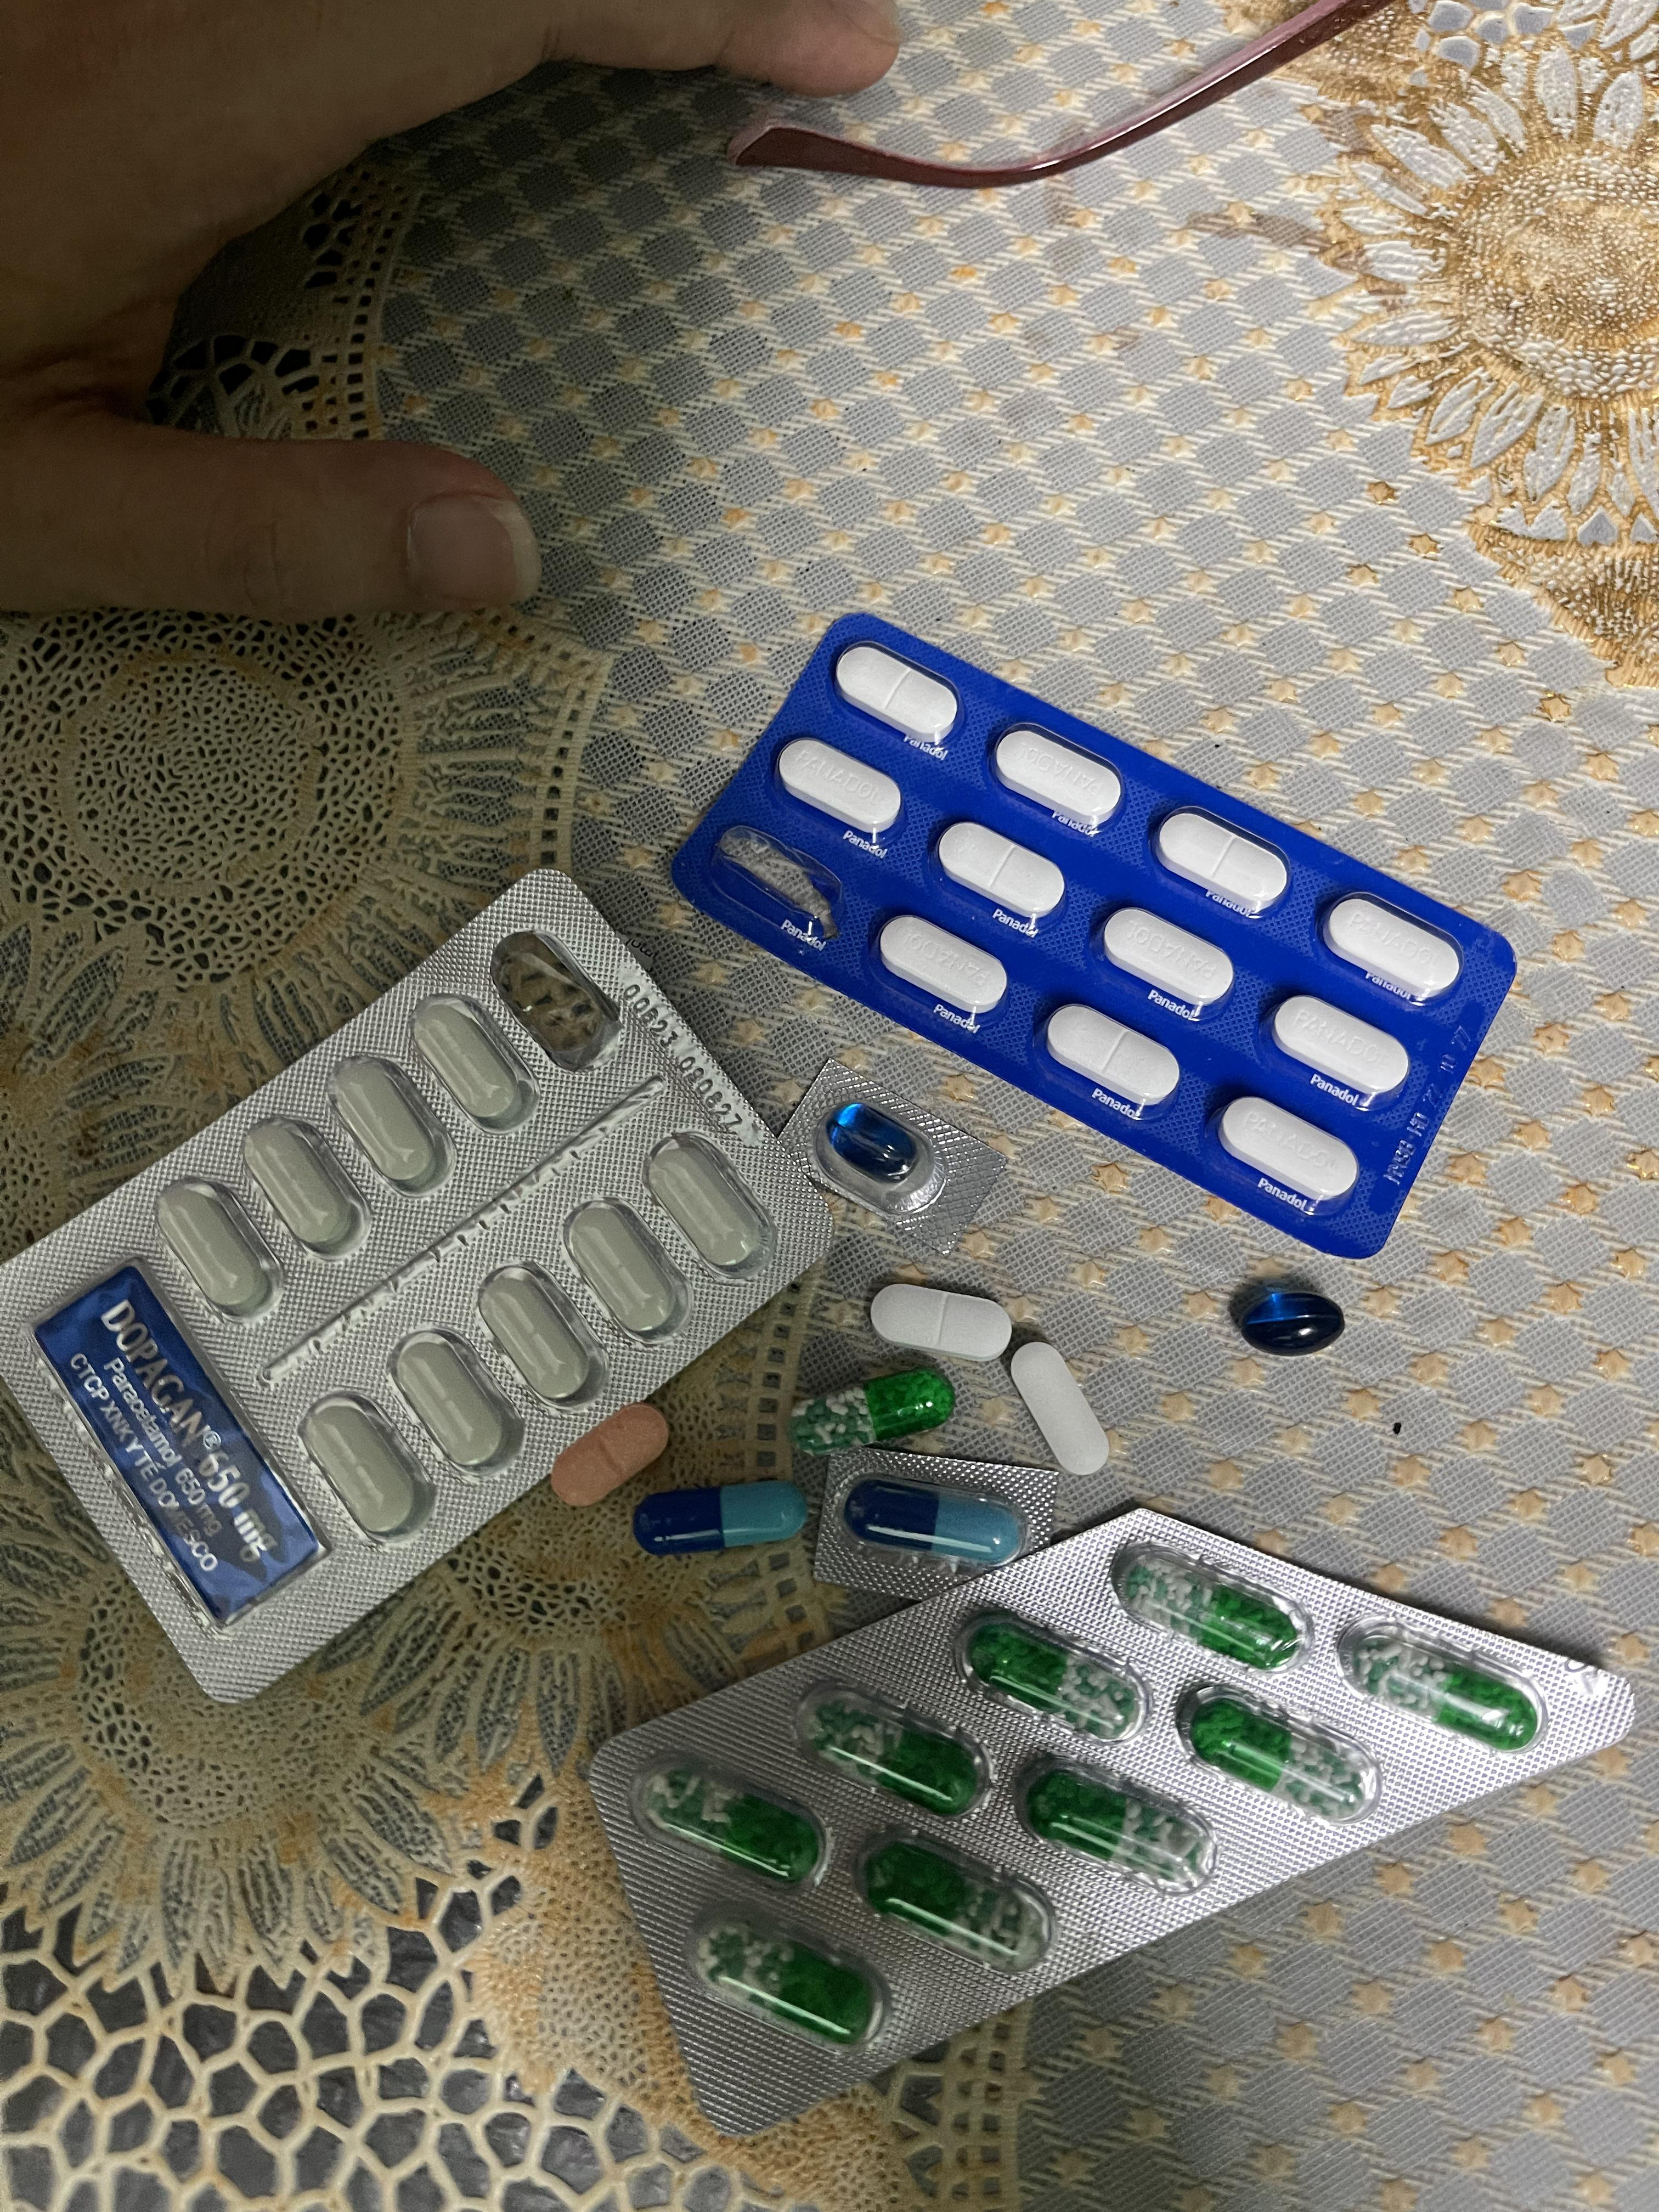Lincomyxin_500mg: (1237, 1287, 1347, 1355), (828, 1103, 920, 1179)
Loratadine_10mg: (547, 1402, 669, 1508)
Paracetamol_350mg: (1319, 894, 1462, 1001), (1269, 995, 1412, 1101), (1216, 1097, 1359, 1204), (1154, 808, 1291, 914), (993, 728, 1124, 834), (878, 914, 1011, 1015), (1101, 907, 1234, 1008), (1046, 1003, 1176, 1104), (777, 737, 903, 841), (835, 644, 960, 747), (936, 822, 1065, 921), (871, 1282, 1012, 1364)
Paracetamol_500mg: (300, 1392, 436, 1543), (329, 1054, 460, 1204), (389, 1327, 523, 1470), (240, 1115, 369, 1261), (563, 1198, 692, 1345), (413, 995, 542, 1134), (479, 1263, 603, 1402), (159, 1181, 277, 1317), (652, 1139, 763, 1266), (1009, 1341, 1108, 1474)
Paracetamol_650mg: (1338, 1618, 1544, 1754), (1178, 1684, 1378, 1824), (687, 1905, 875, 2048), (1019, 1756, 1208, 1890), (857, 1834, 1042, 1968), (798, 1679, 985, 1811), (636, 1759, 821, 1886), (1117, 1543, 1304, 1667), (962, 1609, 1141, 1737), (789, 1369, 953, 1453)
pill: (843, 1479, 1028, 1569), (640, 1480, 803, 1555)
